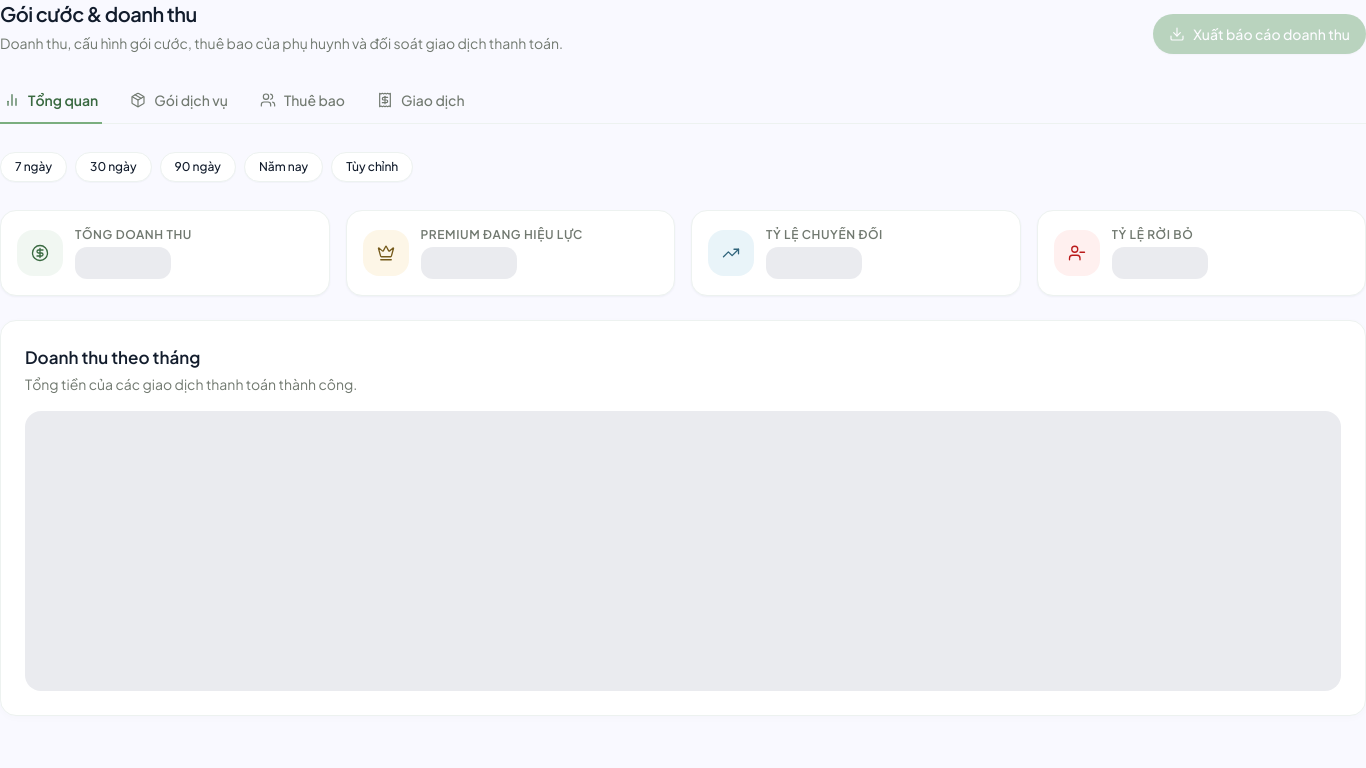
Test: AdminSubscriptionManagementPage › reloads the plan each time the edit modal opens, without the values of a cancelled edit
Step 1. Click the button "Gói dịch vụ" → [179, 101], box [126,78,232,124]
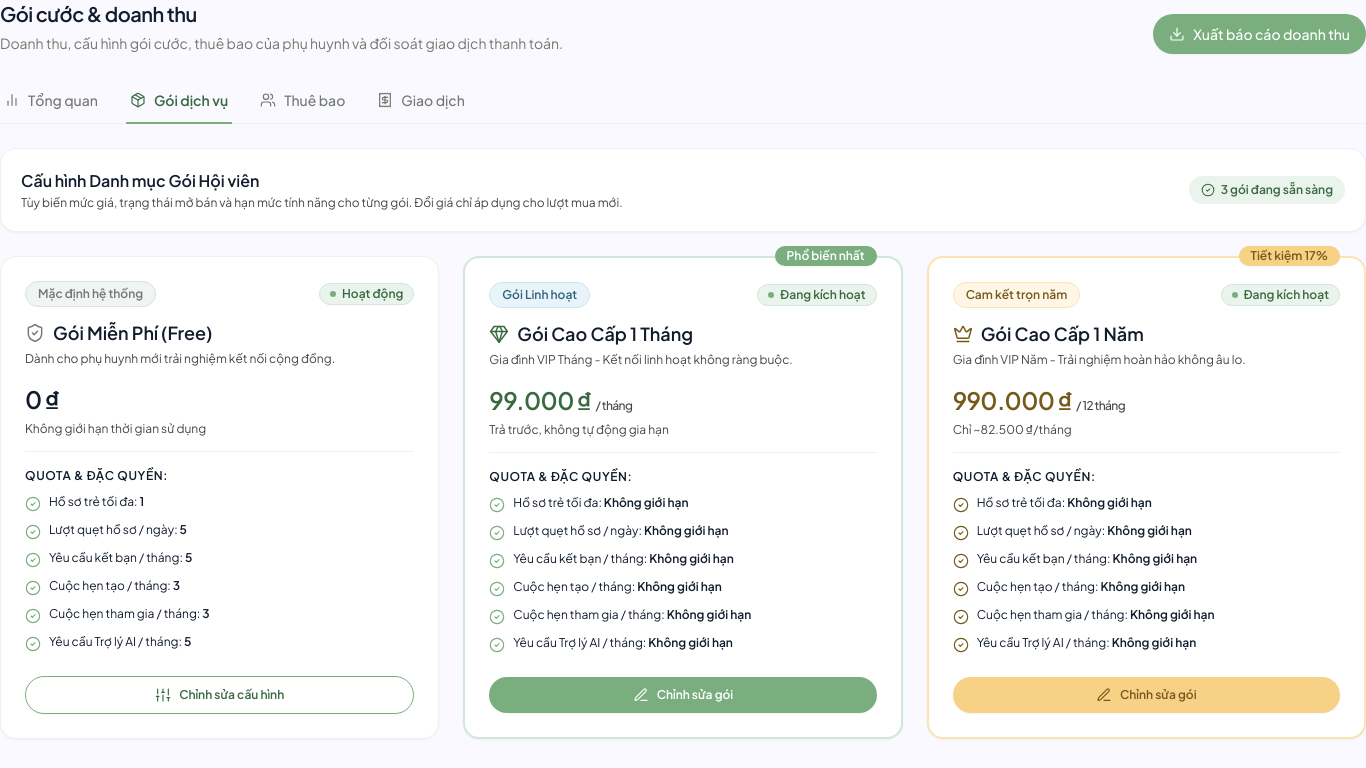
Step 2. Click the button "Chỉnh sửa cấu hình" → [220, 695], box [25,676,414,714]
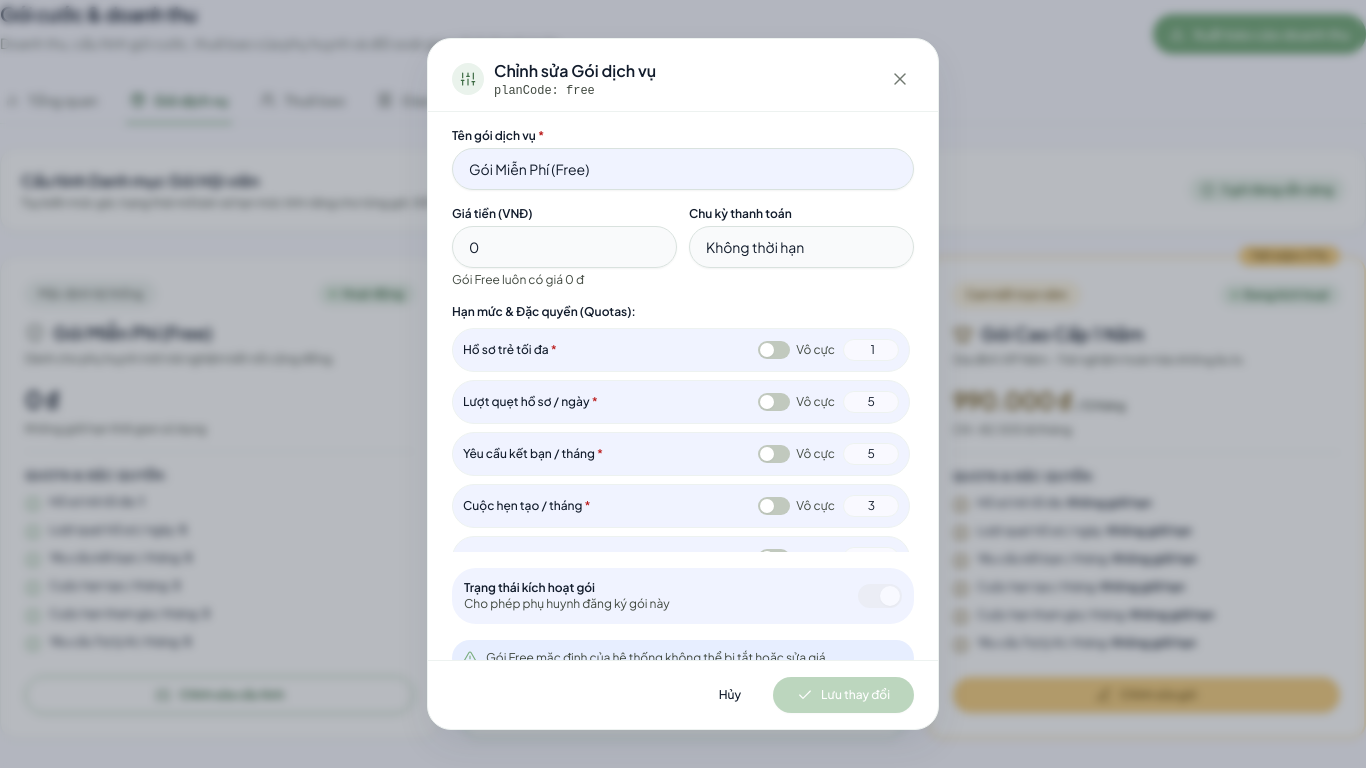
Step 3. Replace the text in the number field labelled "Lượt quẹt hồ sơ / ngày *" with "42" → [871, 402], box [843,391,899,413]
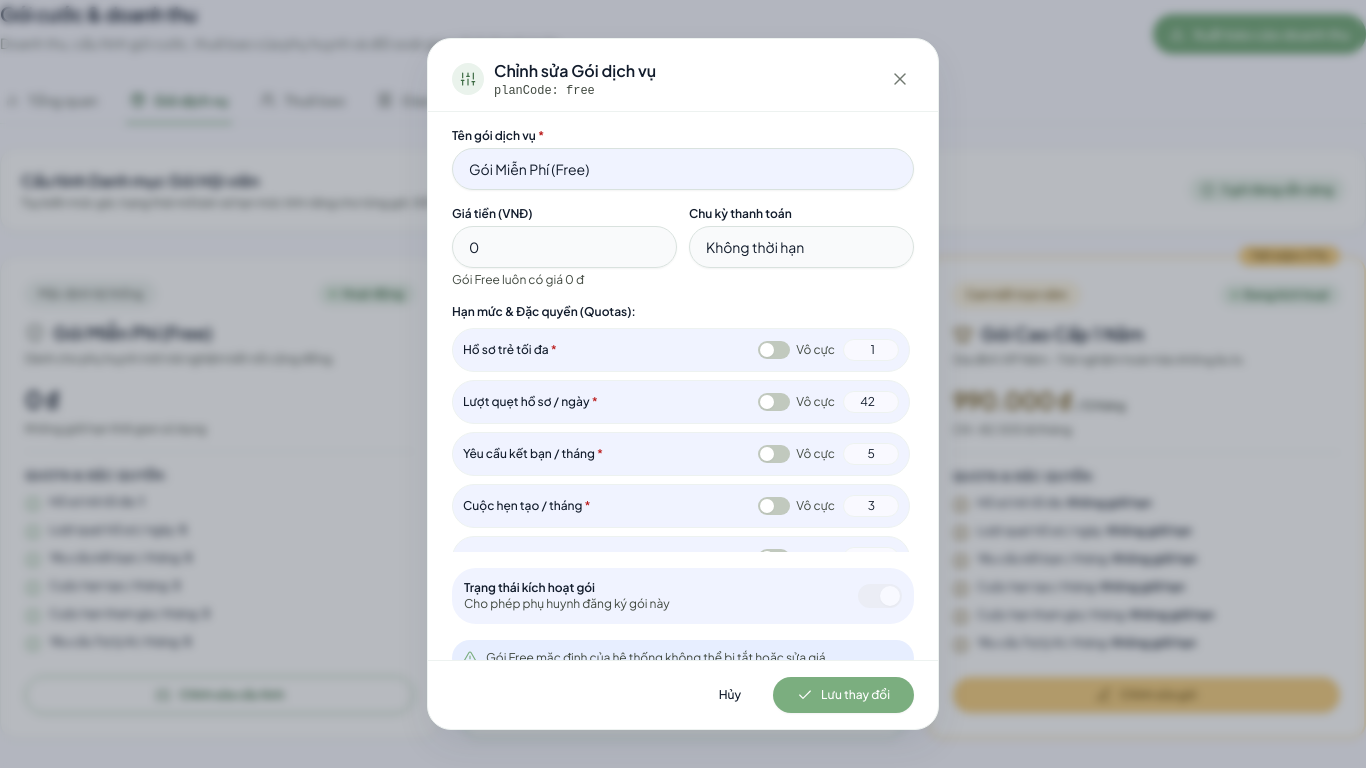
Step 4. Click the button "Hủy" → [730, 695], box [699,677,761,713]
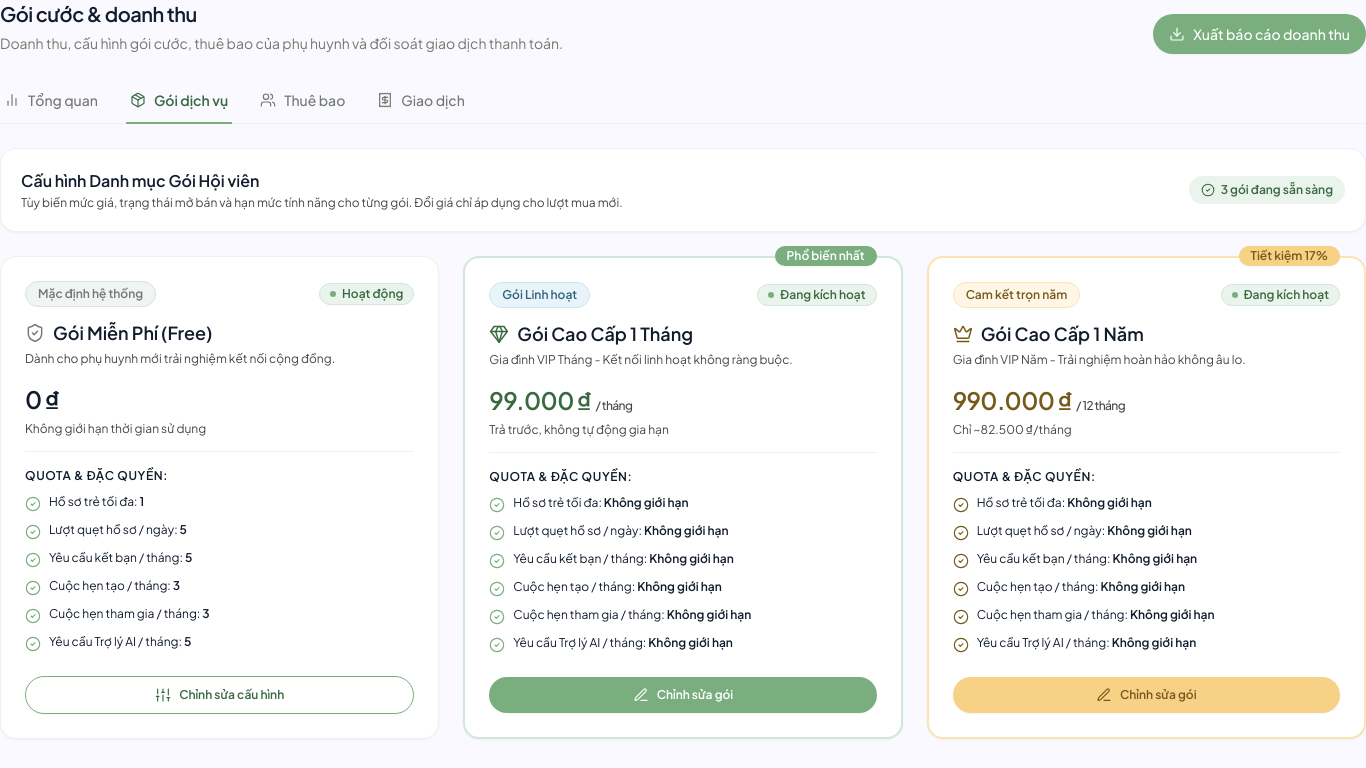
Step 5. Click the button "Chỉnh sửa cấu hình" → [220, 695], box [25,676,414,714]
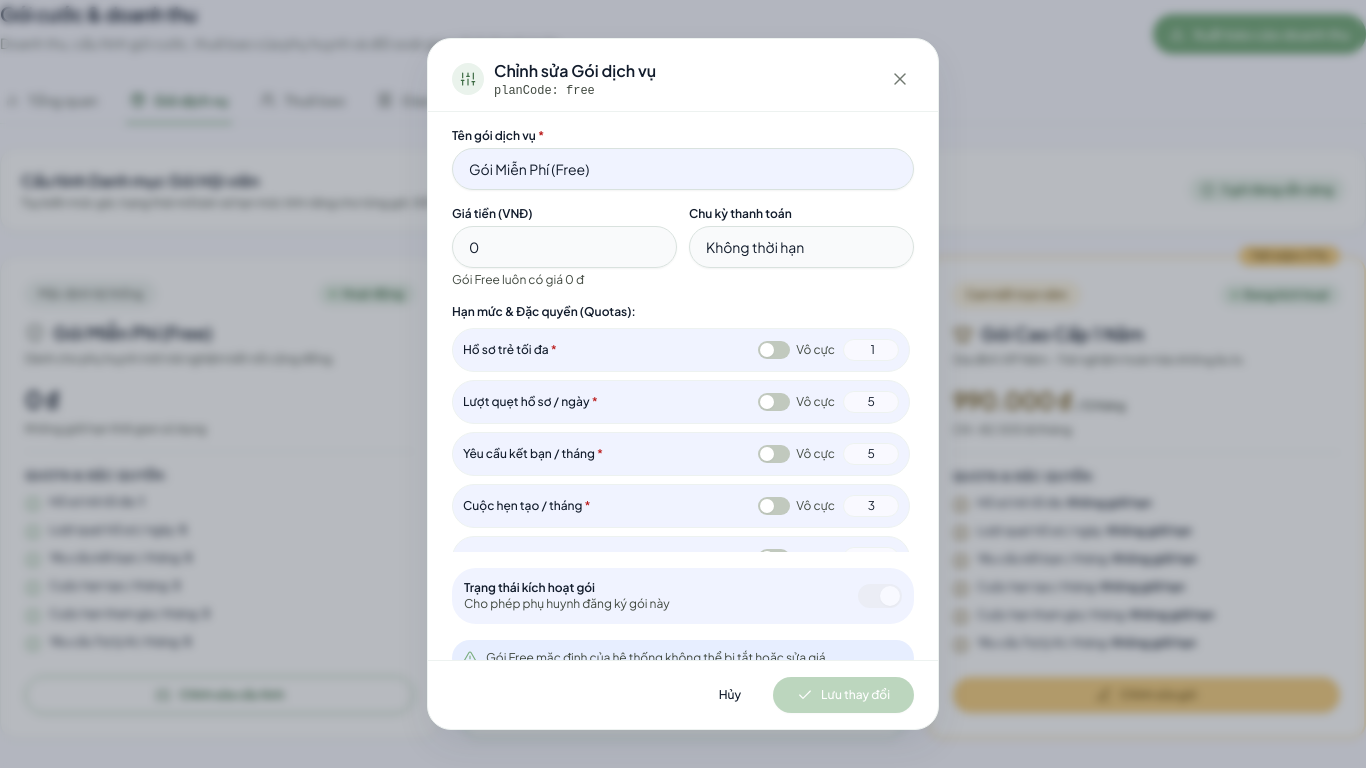
Expected: the number field labelled "Lượt quẹt hồ sơ / ngày *" holds "5", [843,391,899,413]
